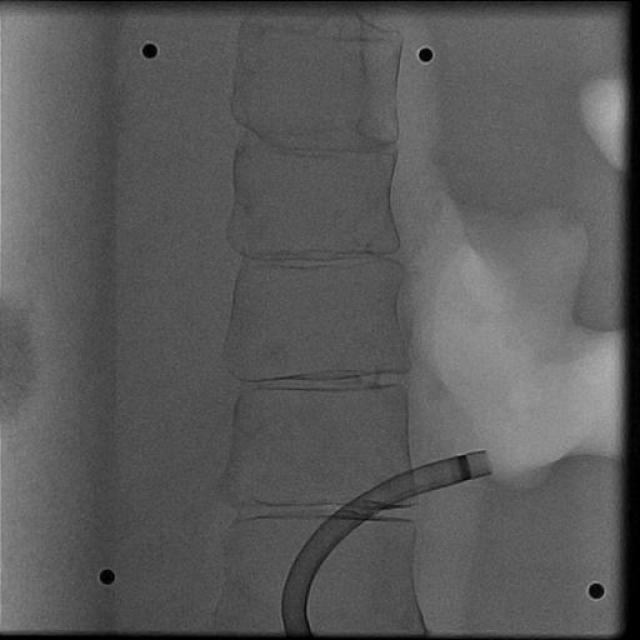bend: (281, 601, 307, 620)
entry: (284, 629, 312, 634)
marker: (456, 454, 473, 480)
tip: (482, 450, 491, 476)
